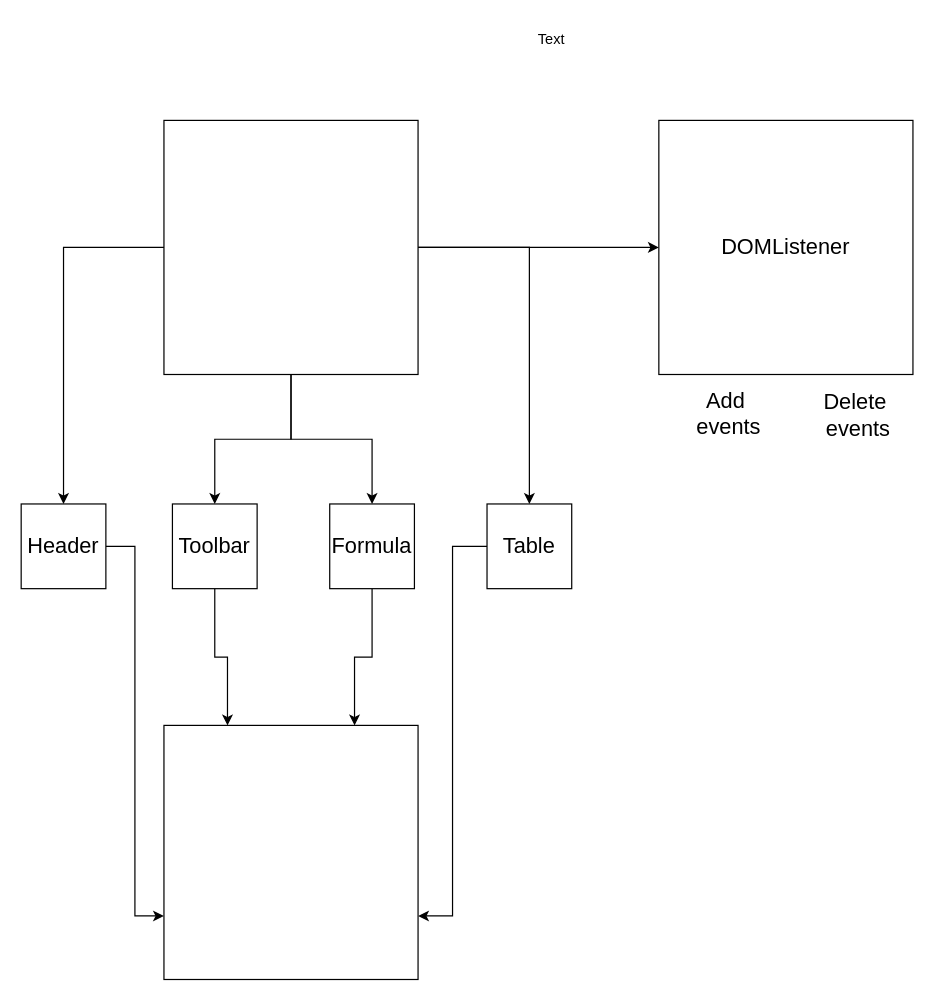
This 934x1001 diagram has some shape labels left out. The centre of each missing label's shape, as x and y in pixels:
"Excel" belongs at point 290,851.
"ExcelComponent" belongs at point 290,246.
